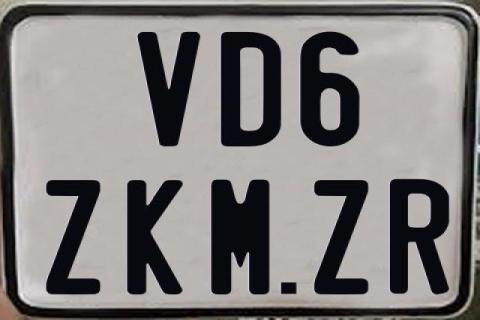0: (299, 29, 360, 144)
D: (220, 31, 281, 151)
K: (126, 179, 188, 295)
M: (209, 178, 271, 298)
R: (389, 179, 453, 299)
V: (135, 31, 200, 148)
Z: (313, 180, 372, 298), (46, 180, 104, 299)
